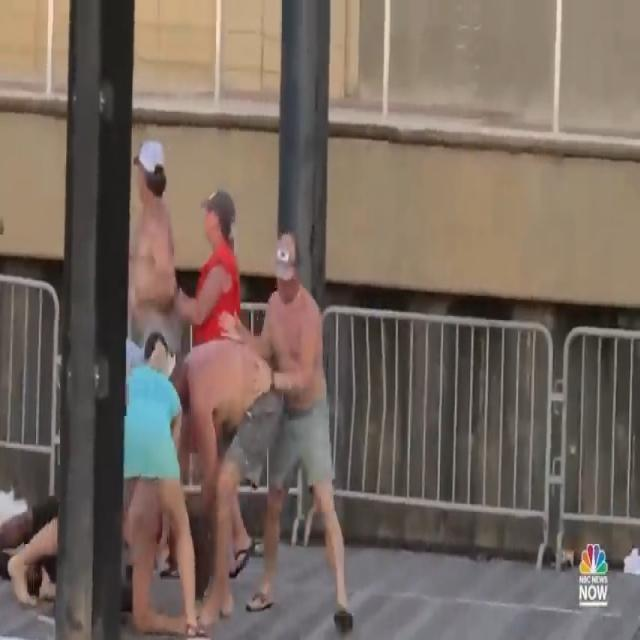fight: (0, 320, 282, 640)
